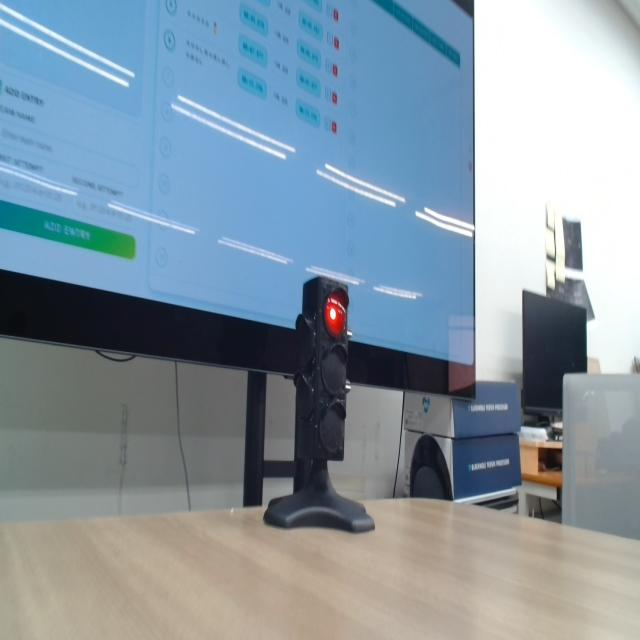red_light: (324, 290, 348, 337)
